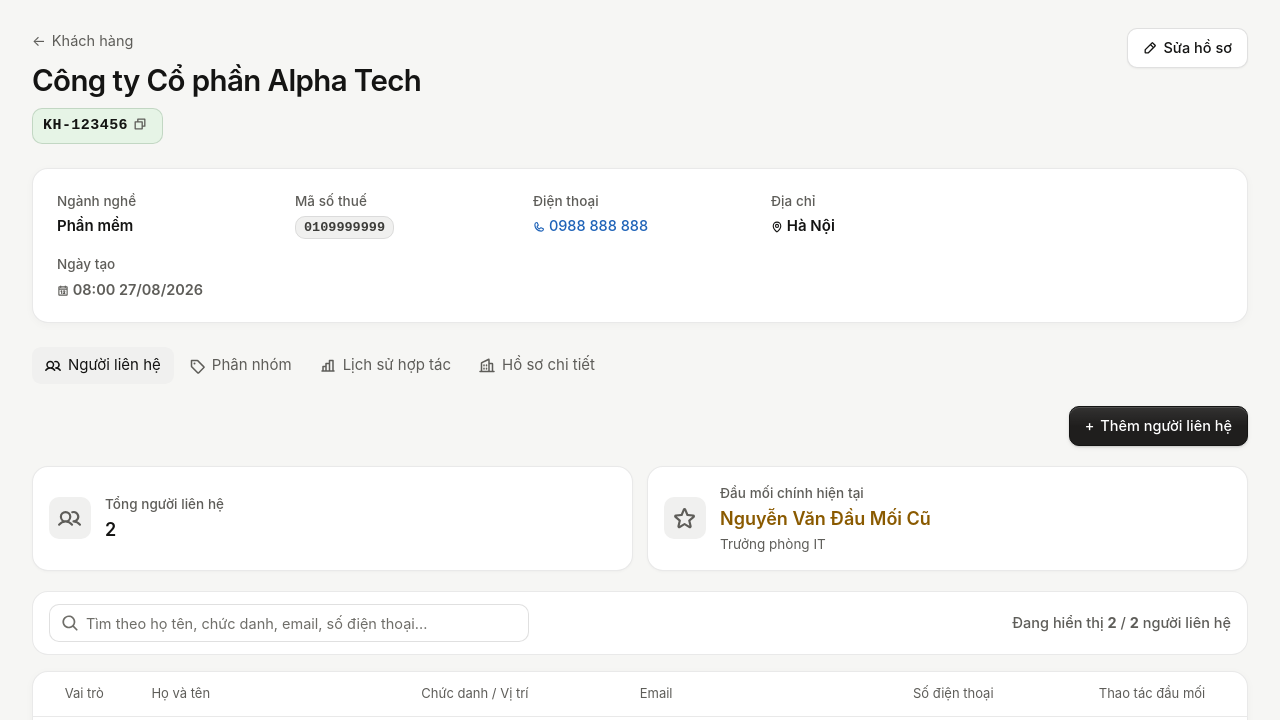
Test: Customer Contact Management Frontend (NCL-02-CN-003) › Tích hợp trang CustomerDetailPage › chuyển đổi qua lại giữa các tab Hồ sơ chi tiết và Người liên hệ
# Chuyển sang Tab Hồ sơ chi tiết
Click the button with test id "tab-btn-overview" at (537, 366), box [466,347,608,384]
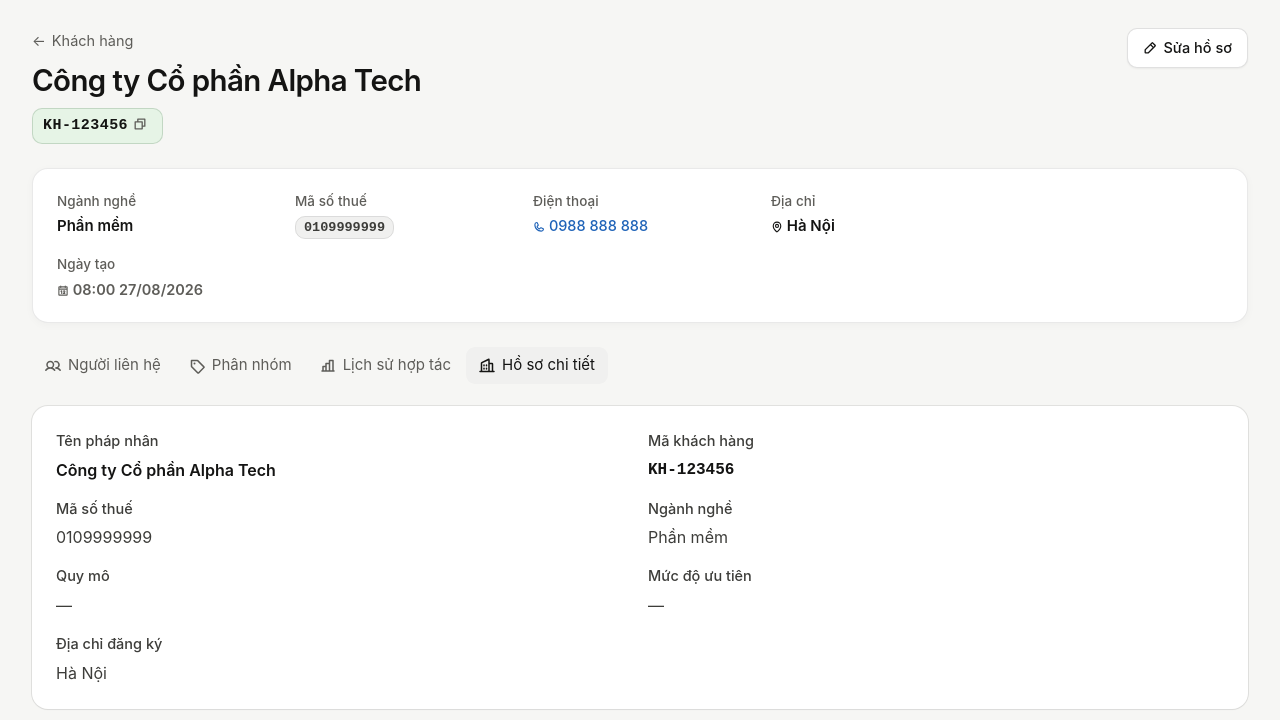
Result: the text "Tên pháp nhân" is shown at [56,432,159,449]
